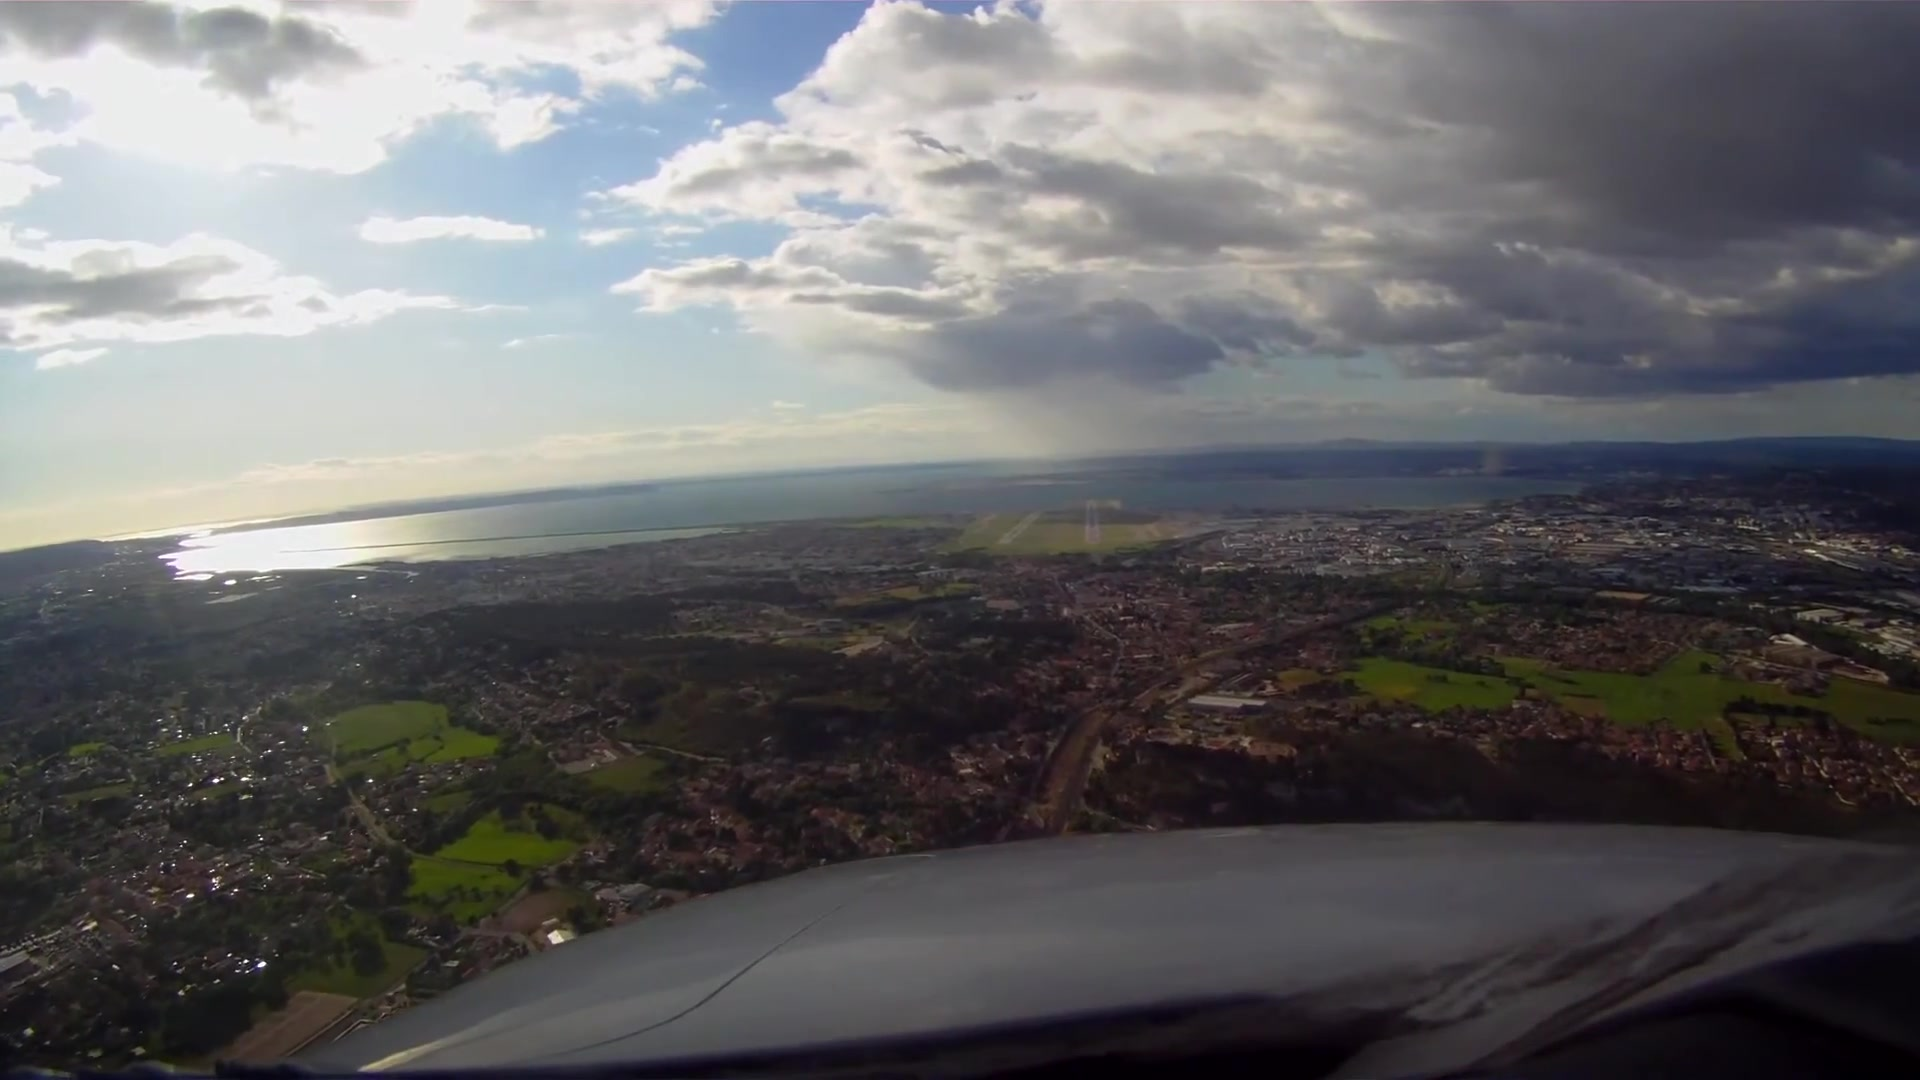runway: (996, 512, 1043, 545), (1080, 500, 1102, 545)
